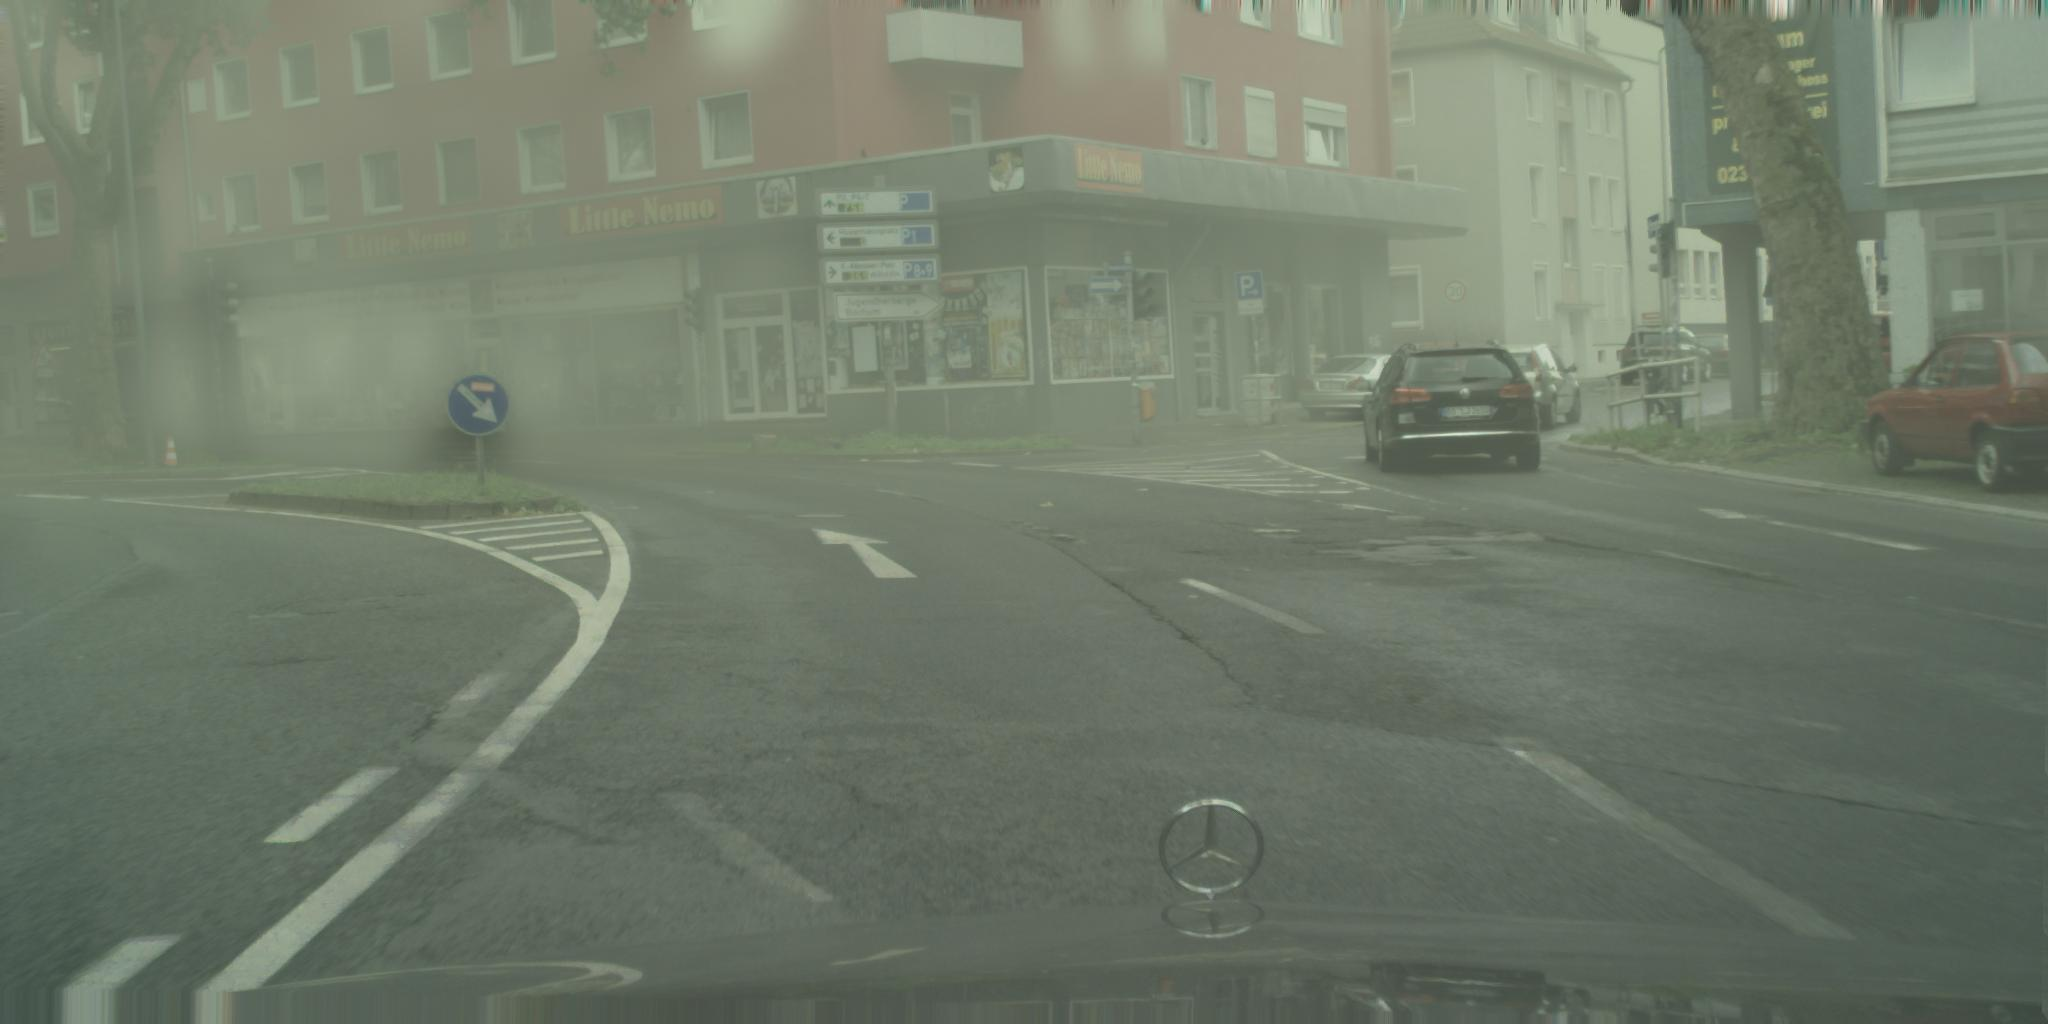car: (1861, 330, 2048, 494), (1356, 340, 1541, 474), (1481, 344, 1582, 430), (1301, 355, 1411, 423), (1622, 327, 1715, 384), (1844, 310, 1894, 388), (1682, 333, 1738, 380)
